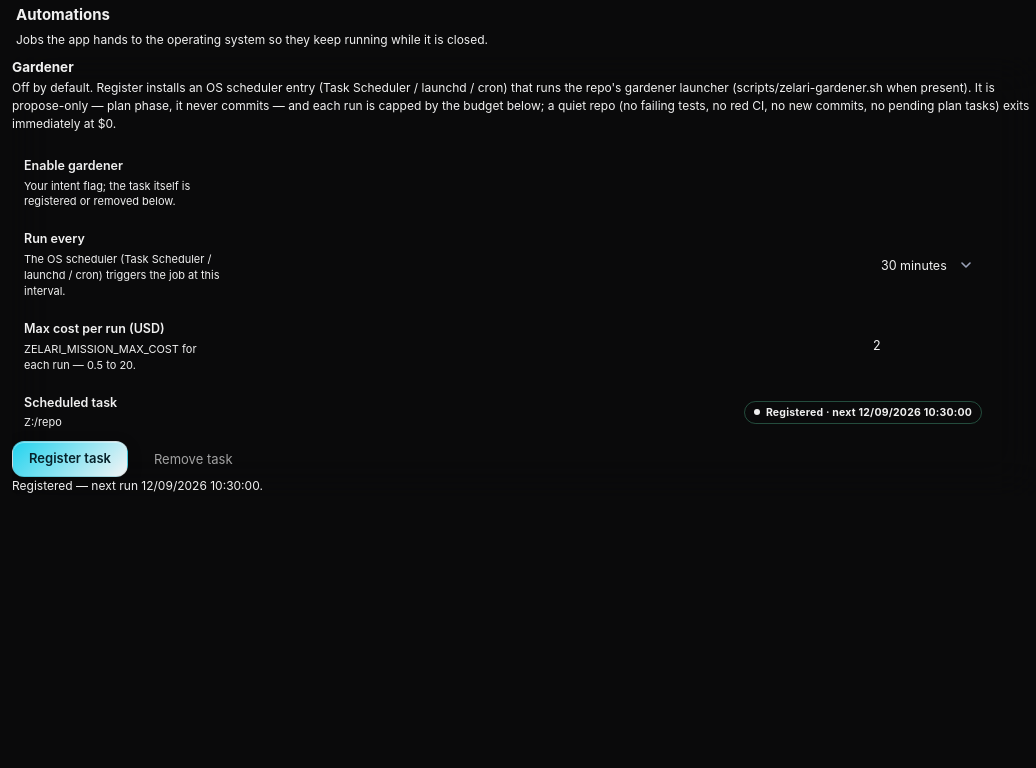
AutomationsSection — gardener card › removes the task and flips the status row back to Not registered
Check: the text "Registered · next 12/09/2026 10:30:00" is shown, box [744,400,982,424]
Step 1. Click the button "Remove task" → [193, 459], box [138,441,248,477]
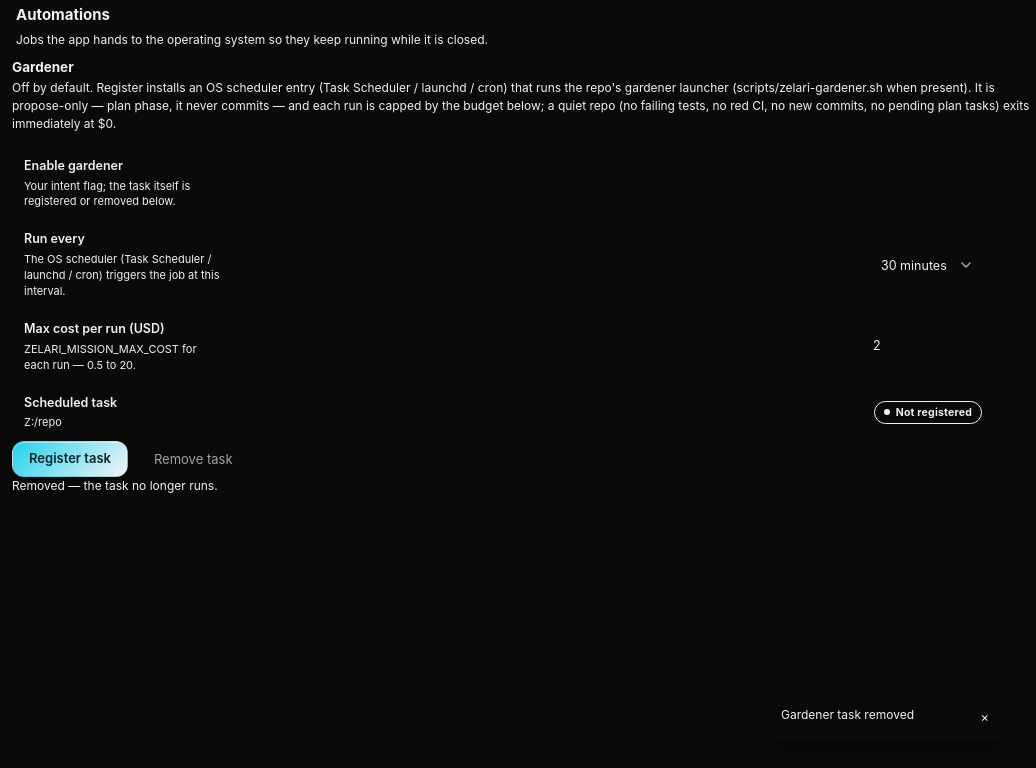
Check: the text "Not registered" is shown, box [874,400,982,424]
